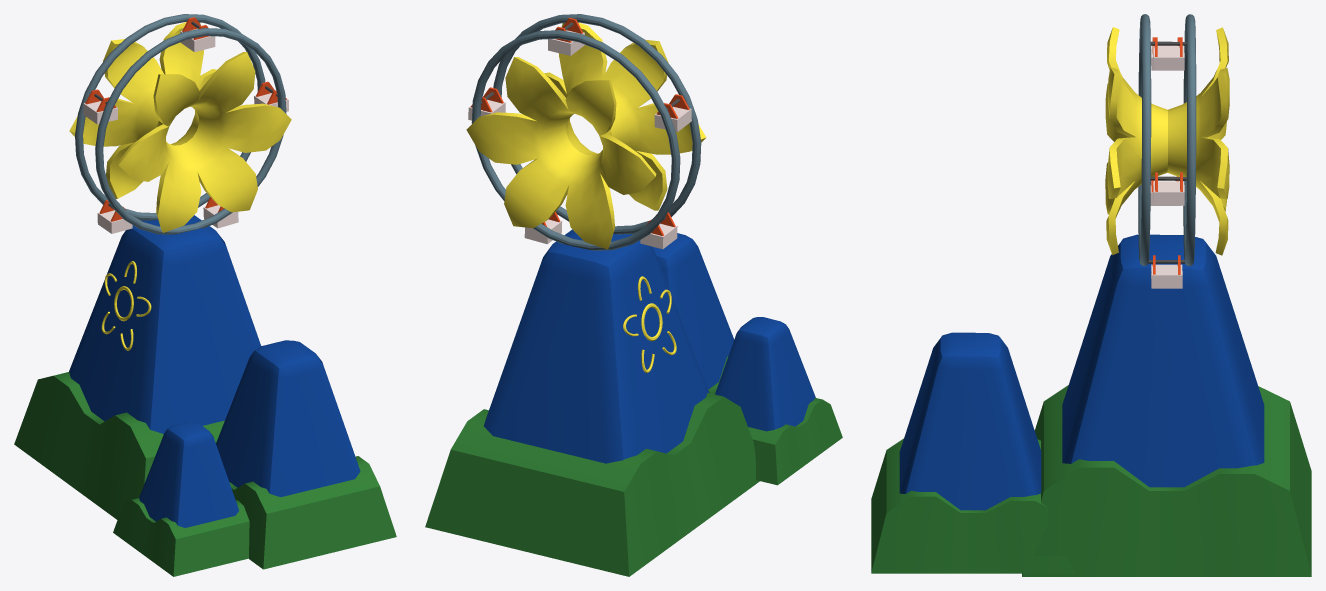
3 renders of one model, left to right at view 1: azimuth 30°, elevation 25°; view 2: azimuth 150°, elevation 25°; view 3: azimuth 270°, elevation 25°, orthographic. The views are drawn at different scales.
Parts seen in each view (by area): view 1: base_05; view 2: base_05; view 3: base_05.
Part boxes in pixels (bbox=[...]): base_05: bbox=[14, 14, 396, 576]; base_05: bbox=[425, 14, 842, 576]; base_05: bbox=[871, 14, 1311, 576].
Size of the model in its own units: 7186 by 13472 by 10693.
Materials: 1 (1 with a texture image).
